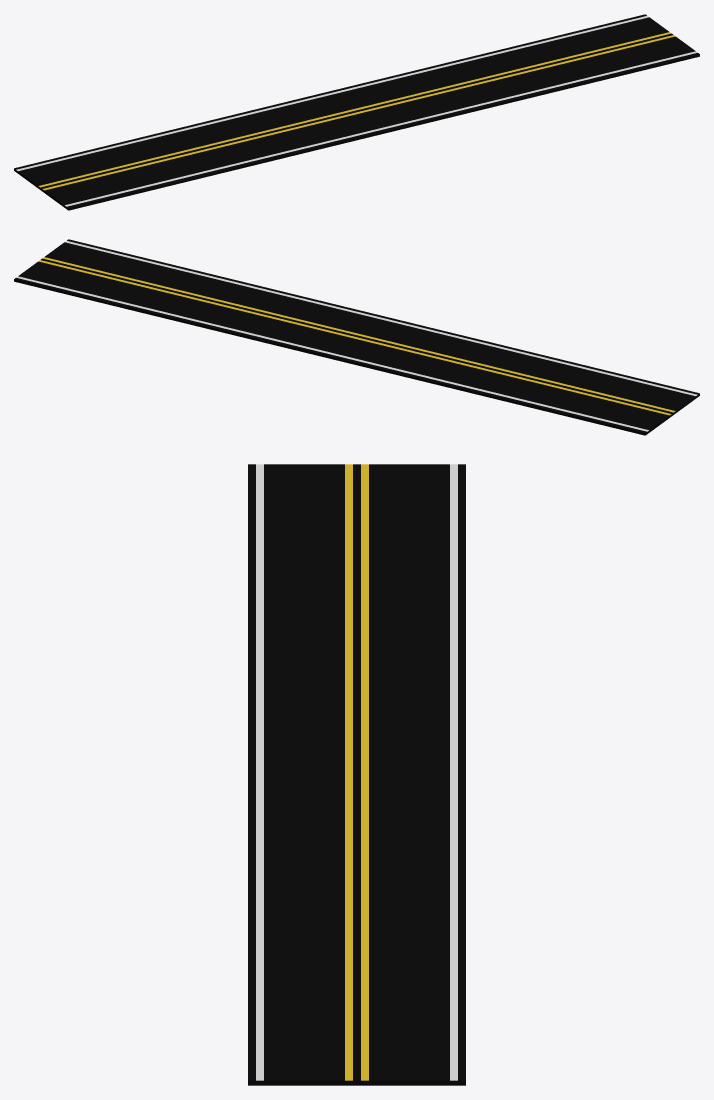
The model's file is RegularRoad.fbx.
3 views of the same model, one above another, from view 1: azimuth 30°, elevation 25°; view 2: azimuth 150°, elevation 25°; view 3: azimuth 270°, elevation 25° (orthographic). The views are drawn at different scales.
Parts seen in each view (by area): view 1: Cube.001; view 2: Cube.001; view 3: Cube.001.
Boxes of the visible parts, bbox=[...] form: Cube.001: bbox=[14, 14, 699, 210]; Cube.001: bbox=[14, 239, 699, 435]; Cube.001: bbox=[248, 464, 465, 1085].
Bounding box in the file's own units: 100 × 0.371 × 14.96.
